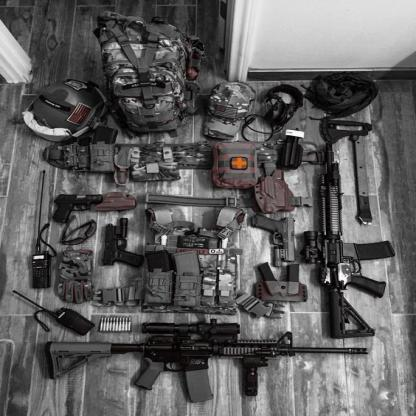Gun: (42, 317, 370, 405), (302, 143, 397, 339)
Knife: (354, 140, 373, 226)
Pistol: (248, 212, 296, 268), (101, 217, 147, 268), (51, 192, 101, 225)
